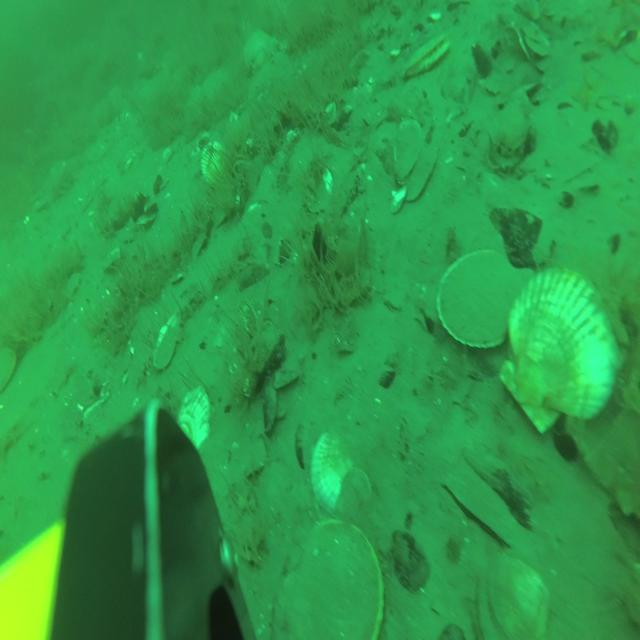scallop: (502, 269, 613, 435), (298, 525, 385, 640), (432, 248, 518, 348), (487, 551, 551, 640), (312, 428, 352, 512), (174, 386, 212, 449), (403, 142, 436, 205), (399, 37, 448, 79), (392, 120, 421, 183), (154, 312, 185, 366), (341, 470, 372, 520), (200, 140, 226, 186), (0, 347, 15, 392)
starfish: (243, 28, 279, 71)
